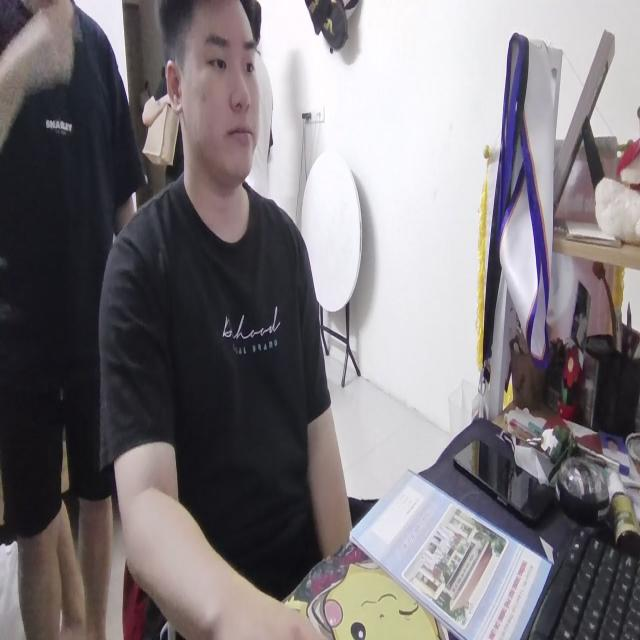book: (354, 468, 556, 640)
extra_person: (0, 0, 144, 640)
student: (101, 0, 351, 640)
